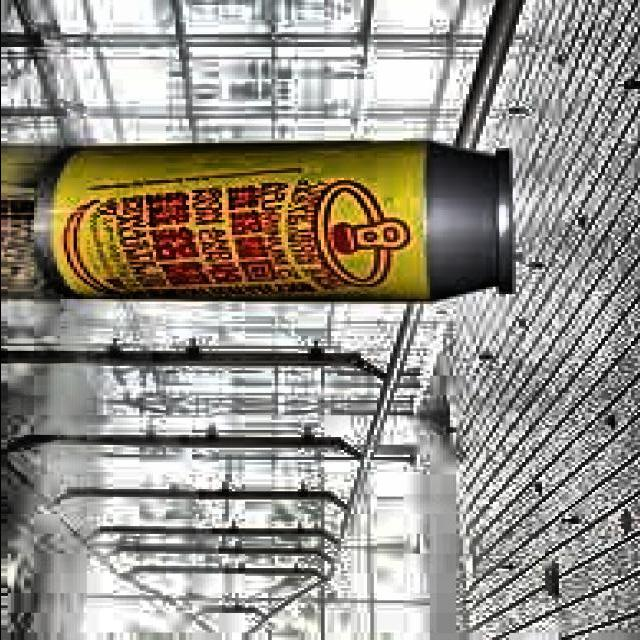Aluminum Can: (27, 134, 534, 308)
